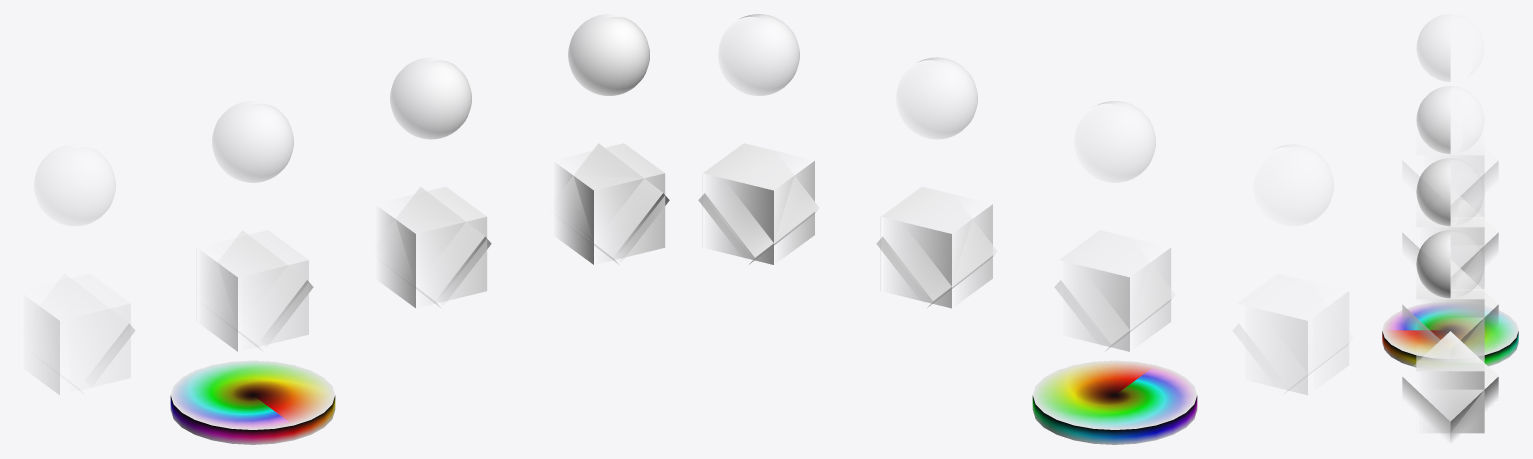
The model's file is opacity-mod.gltf.
3 renders of one model, left to right at view 1: azimuth 30°, elevation 25°; view 2: azimuth 150°, elevation 25°; view 3: azimuth 270°, elevation 25°, orthographic. The views are drawn at different scales.
Parts seen in each view (by area): view 1: cube (×4), sphere (×4), diamond (×4), base; view 2: cube (×4), diamond (×4), sphere (×3), base; view 3: diamond (×4), cube (×4), sphere (×4), base.
Boxes of the visible parts, <box> form: cube (×4): <box>43,143,665,394</box>; sphere (×4): <box>57,14,649,225</box>; diamond (×4): <box>45,143,669,392</box>; base: <box>170,360,335,444</box>; cube (×4): <box>703,143,1348,394</box>; diamond (×4): <box>698,153,1352,387</box>; sphere (×3): <box>721,14,1155,182</box>; base: <box>1032,360,1197,444</box>; diamond (×4): <box>1402,115,1498,441</box>; cube (×4): <box>1416,144,1484,433</box>; sphere (×4): <box>1416,14,1484,298</box>; base: <box>1382,302,1518,367</box>.
Size of what is drawn, in the model's own units: 4.6 by 2.05 by 1.
Materials: 5 (5 with a texture image).
